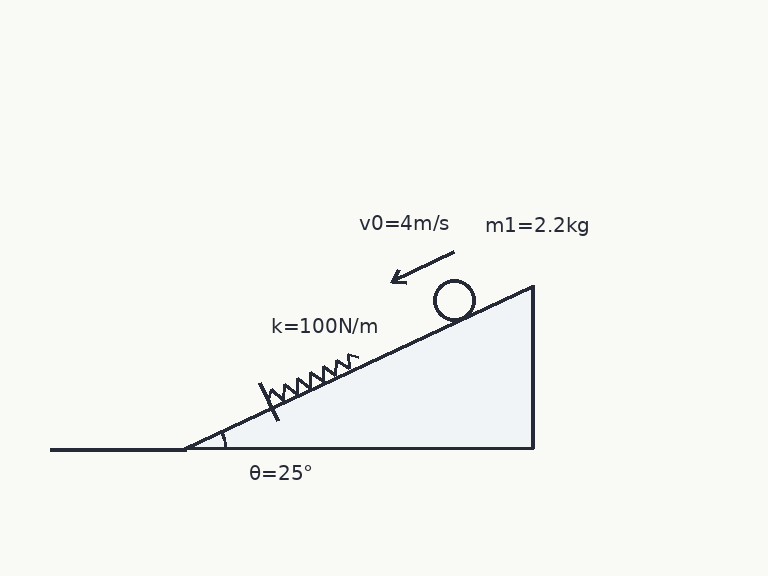ball: (431, 277, 477, 323)
ramp: (183, 284, 534, 450)
spring: (266, 352, 360, 402)
